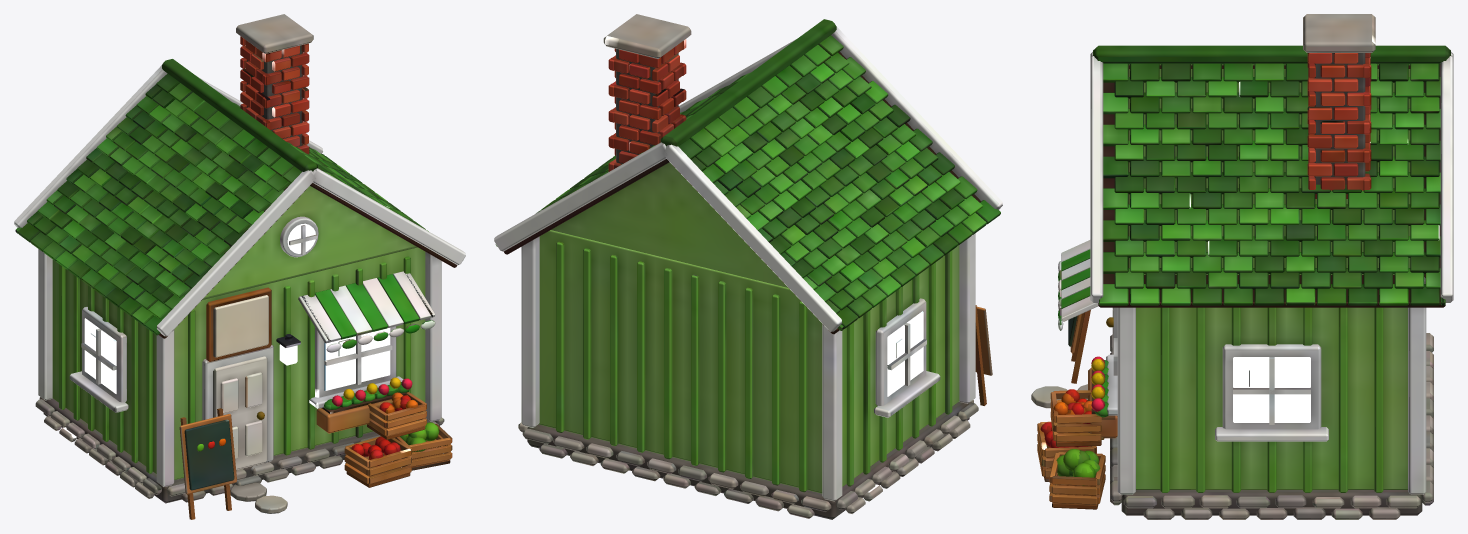
File: salad_bar.glb
The picture shows the model from 3 angles, left to right: view 1: azimuth 30°, elevation 25°; view 2: azimuth 150°, elevation 25°; view 3: azimuth 270°, elevation 25°; orthographic projection. The views are drawn at different scales.
Parts seen in each view (by area): view 1: salad_bar; view 2: salad_bar; view 3: salad_bar.
Boxes of the visible parts, x1,y1,x2,y2 form: salad_bar: (14,14,465,519); salad_bar: (494,14,1002,519); salad_bar: (1031,14,1453,519).
Size of the model in its own units: 1.69 by 1.9 by 1.63.
Materials: 1 (1 with a texture image).
